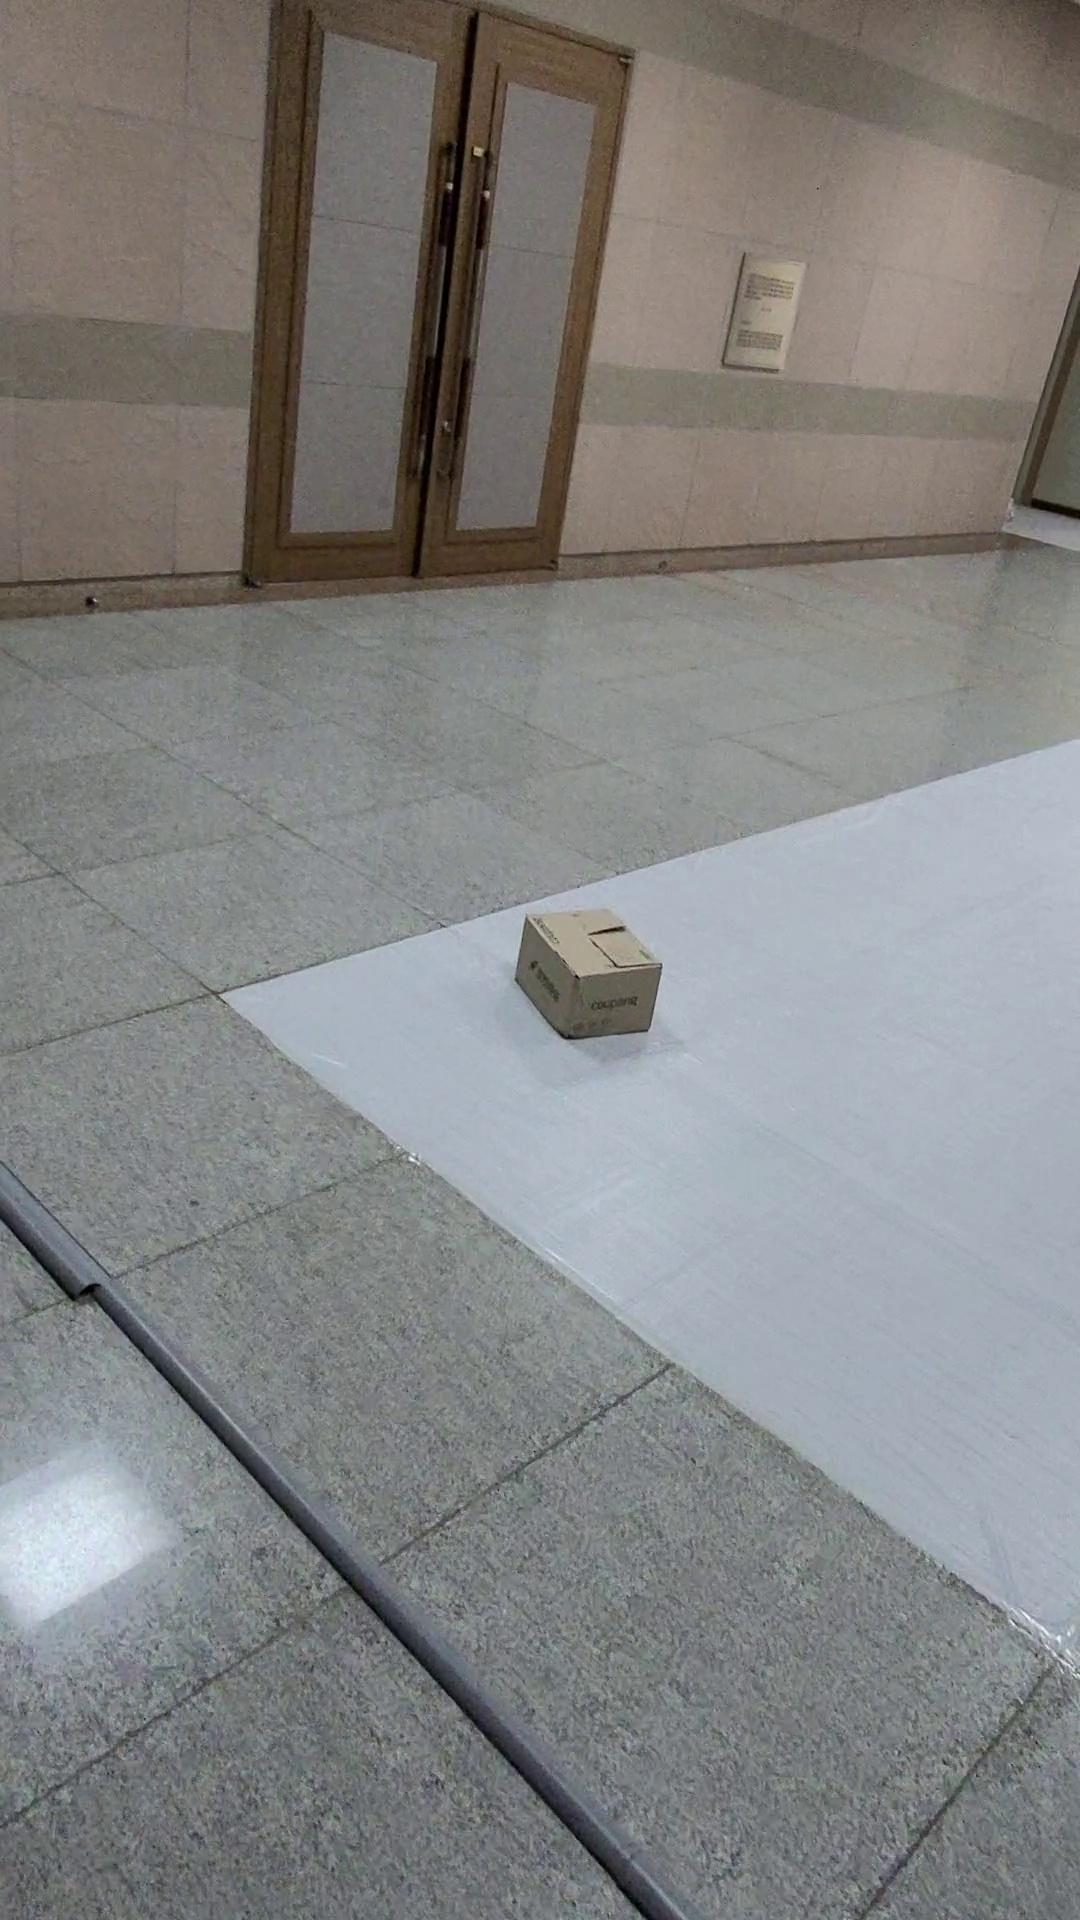Box: (483, 862, 698, 1055)
